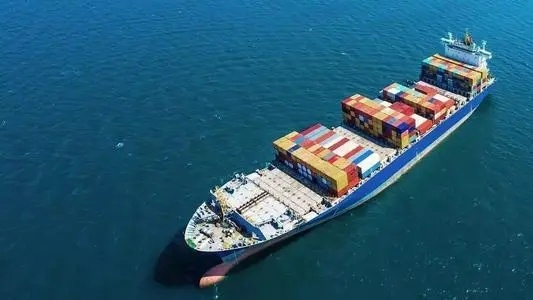Cargoship: (178, 26, 495, 266)
